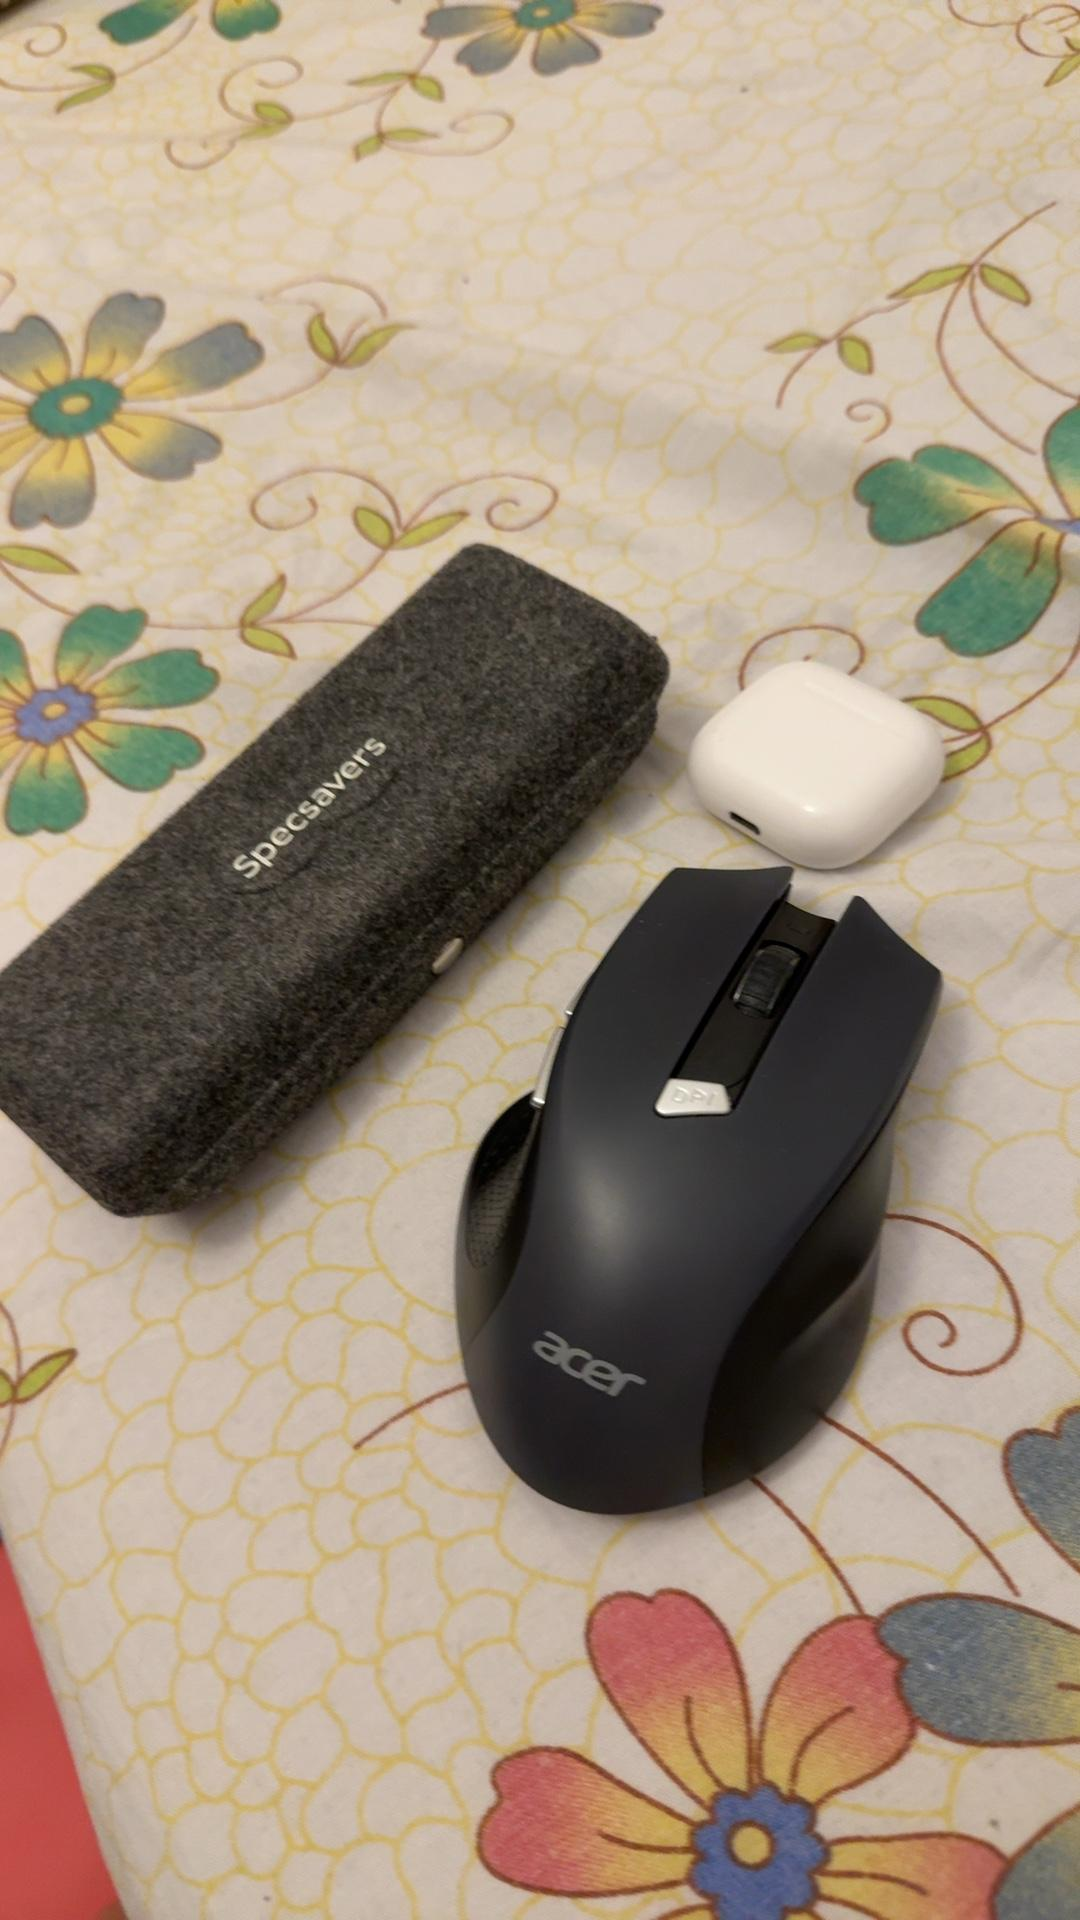Aulaf75: (462, 840, 920, 1520)
